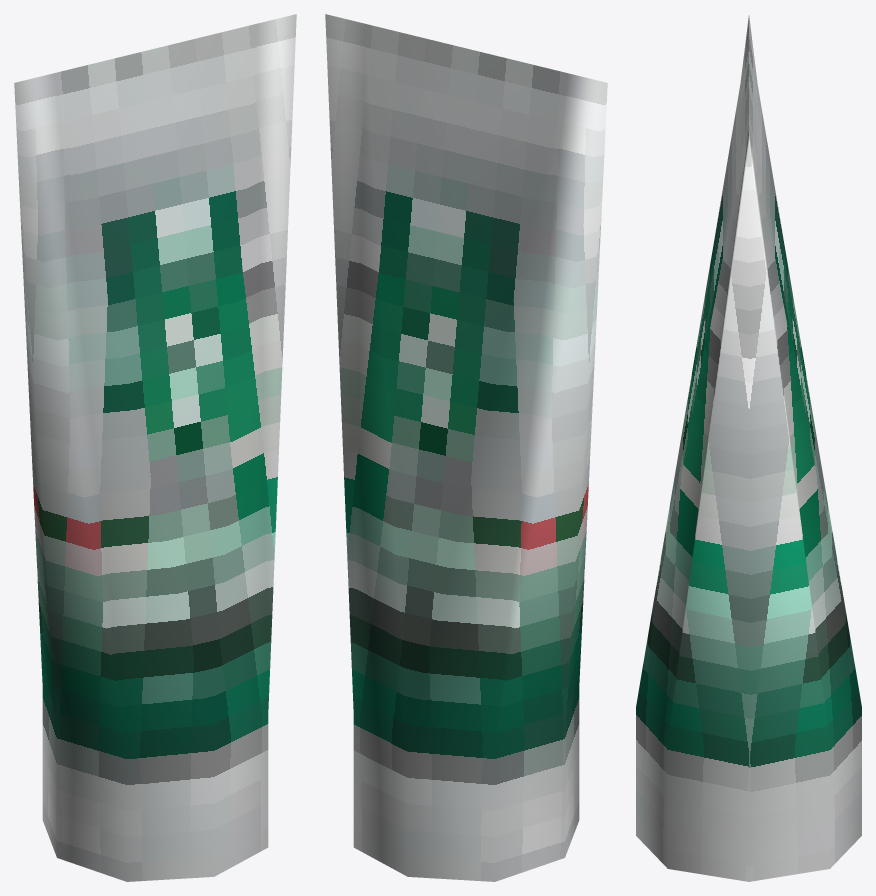
File: Toothpaste.glb
3 views of the same model, side by side, from view 1: azimuth 30°, elevation 25°; view 2: azimuth 150°, elevation 25°; view 3: azimuth 270°, elevation 25° (orthographic). The views are drawn at different scales.
Visible parts, largest first — view 1: toothpaste; view 2: toothpaste; view 3: toothpaste.
Boxes of the visible parts, bbox=[...] form: toothpaste: bbox=[14, 14, 296, 881]; toothpaste: bbox=[325, 14, 607, 881]; toothpaste: bbox=[636, 15, 861, 881].
Bounding box in the file's own units: 0.0604 × 0.1606 × 0.0435.
1 material, 1 textured.
